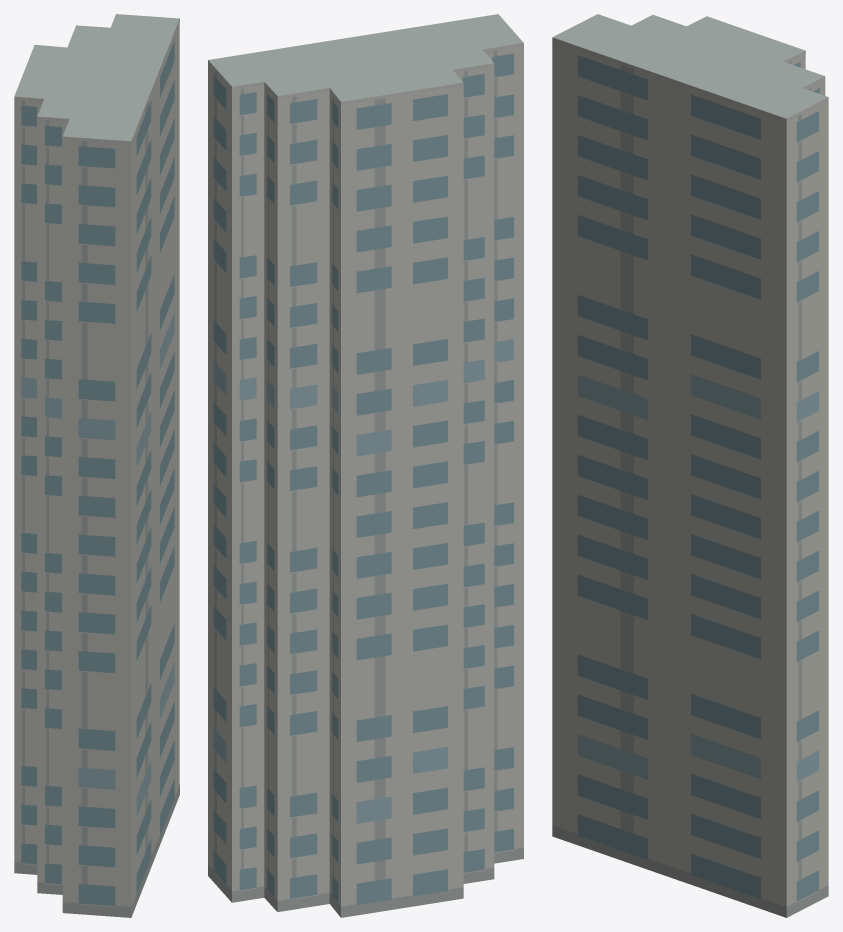
File: survey-upis-32714842.glb
3 views of the same model, side by side, from view 1: azimuth 30°, elevation 25°; view 2: azimuth 150°, elevation 25°; view 3: azimuth 270°, elevation 25° (orthographic). The views are drawn at different scales.
Visible parts, largest first — view 1: survey-upis-32714842.tmp; view 2: survey-upis-32714842.tmp; view 3: survey-upis-32714842.tmp.
Boxes of the visible parts, x1,y1,x2,y2 form: survey-upis-32714842.tmp: (14, 14, 179, 917); survey-upis-32714842.tmp: (208, 14, 523, 917); survey-upis-32714842.tmp: (552, 14, 828, 917).
Bounding box in the file's own units: 17.17 × 61 × 19.14.
